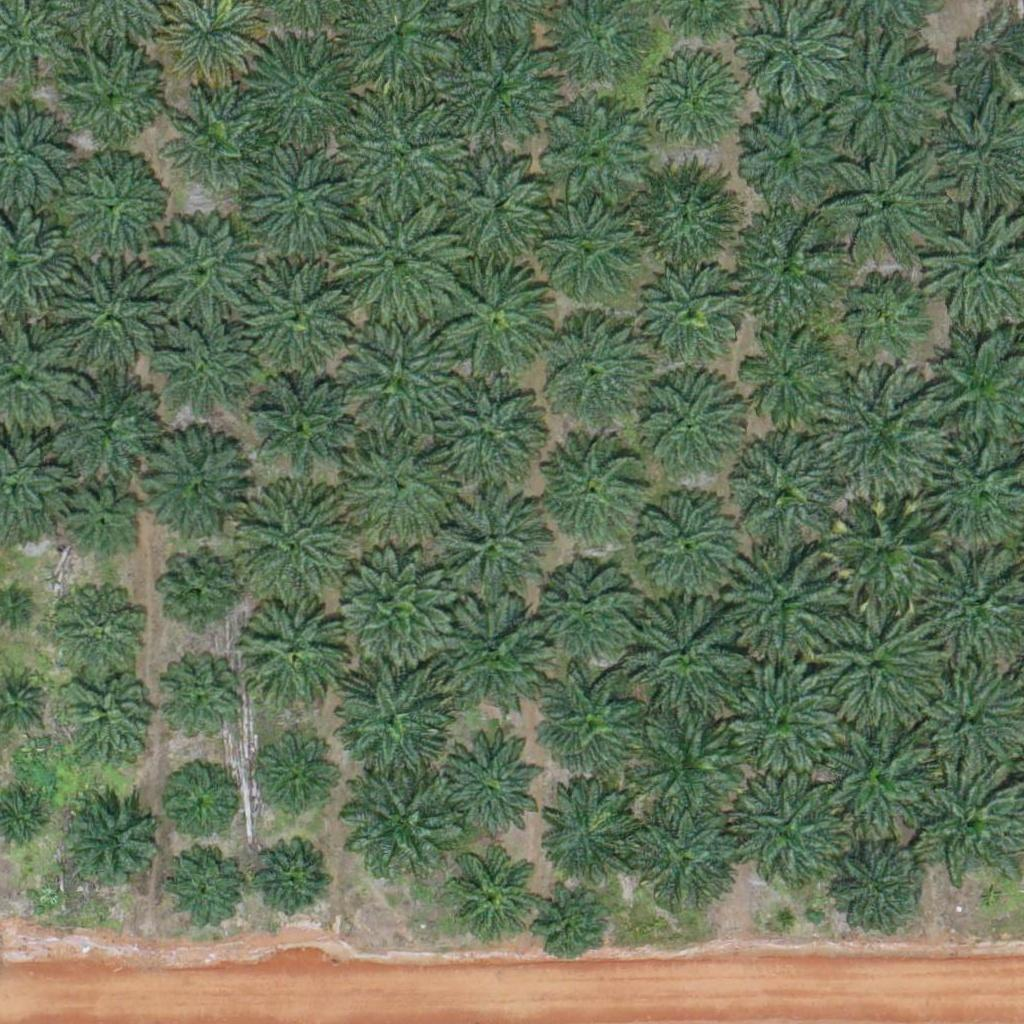Kelapa_Sawit: (820, 606, 945, 732), (819, 482, 944, 608), (819, 368, 944, 494), (722, 441, 847, 567), (813, 38, 938, 164), (823, 134, 948, 260), (341, 92, 466, 218), (335, 195, 460, 320), (905, 659, 1018, 772), (629, 808, 742, 921), (631, 705, 744, 818), (635, 593, 748, 706), (534, 314, 647, 427), (533, 659, 646, 772), (443, 264, 556, 377), (433, 369, 546, 482), (430, 487, 543, 600), (343, 761, 456, 874), (233, 593, 346, 706), (136, 433, 249, 546), (54, 261, 167, 374), (40, 362, 153, 475), (529, 191, 642, 304), (443, 150, 556, 263), (445, 31, 558, 144), (151, 213, 264, 326), (52, 38, 165, 151), (724, 205, 836, 319), (629, 156, 741, 270), (535, 92, 647, 206), (822, 730, 934, 843), (729, 546, 841, 659), (728, 661, 840, 774), (731, 776, 843, 889), (636, 477, 748, 590), (632, 364, 744, 477), (439, 591, 551, 704), (435, 737, 547, 850), (342, 318, 454, 431), (340, 427, 452, 540), (338, 546, 450, 659), (334, 661, 446, 774), (236, 483, 348, 596), (241, 33, 353, 146), (241, 144, 353, 257), (240, 256, 352, 369), (836, 831, 936, 932), (547, 433, 647, 534), (538, 557, 638, 658), (539, 779, 639, 880), (250, 380, 350, 481), (59, 792, 159, 893), (62, 158, 162, 259), (738, 322, 838, 422), (641, 263, 741, 363), (743, 103, 843, 203), (644, 54, 744, 154), (443, 849, 531, 937), (54, 583, 142, 671), (62, 677, 150, 765), (172, 95, 259, 184), (248, 730, 335, 818), (159, 327, 246, 415), (162, 553, 237, 629), (845, 272, 920, 348), (256, 846, 331, 922), (164, 668, 239, 744), (167, 850, 242, 926), (60, 486, 135, 562), (164, 773, 227, 836), (538, 890, 601, 953)
